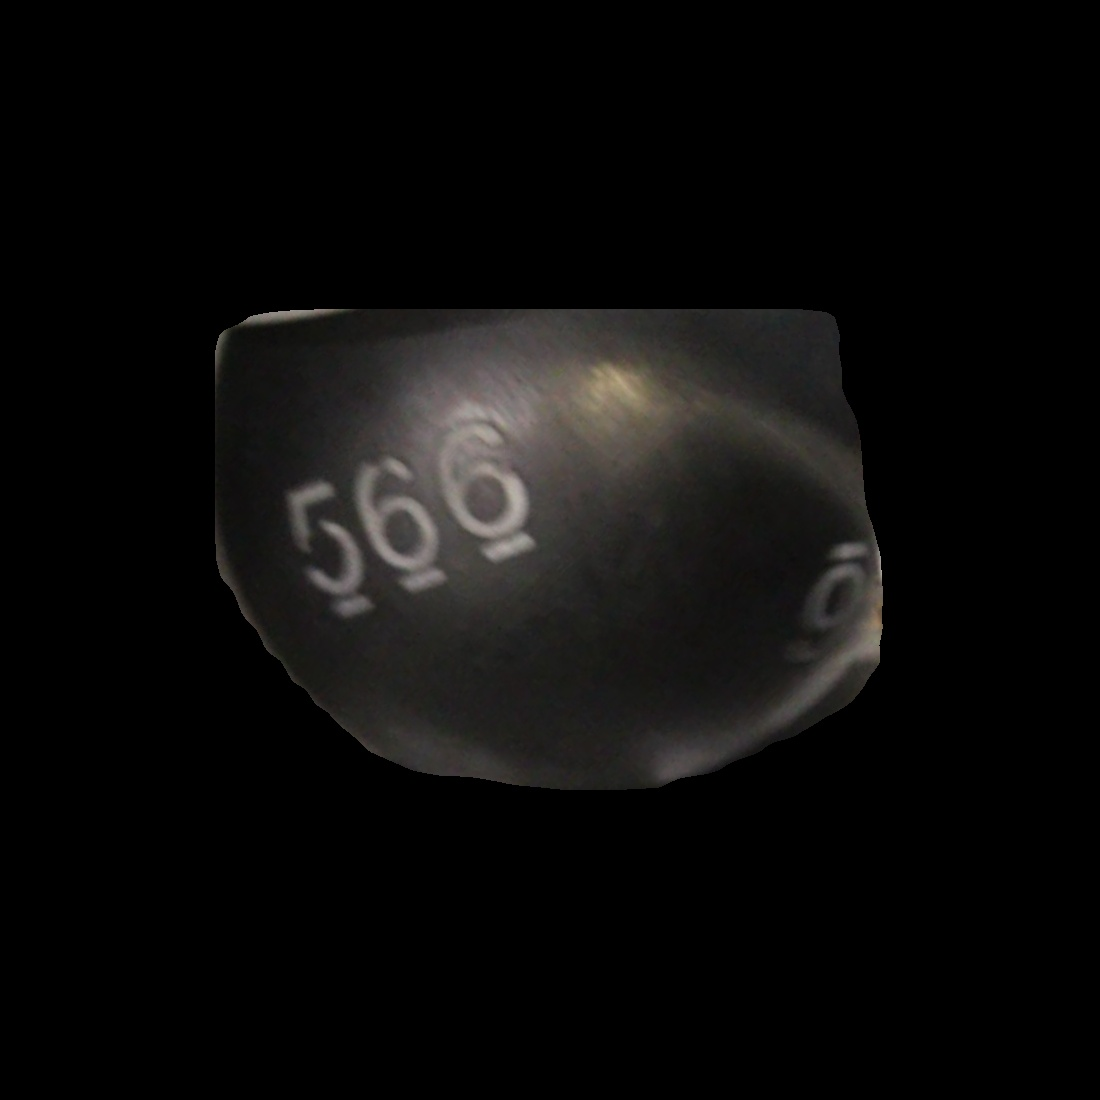digits: (283, 416, 540, 620)
